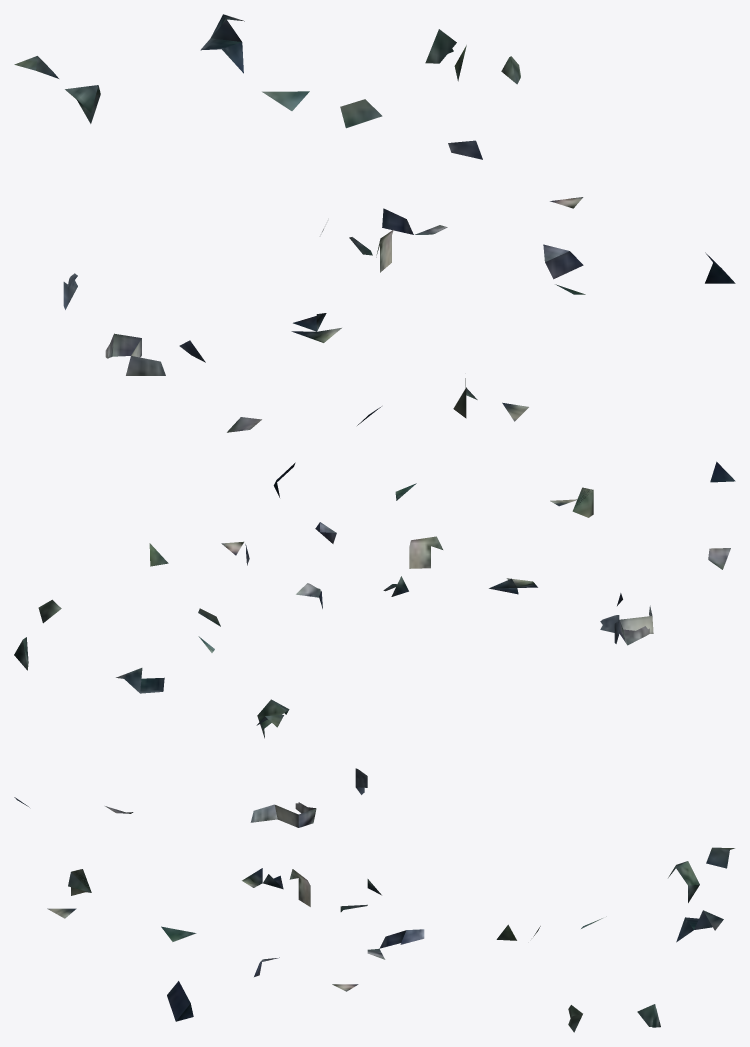
The picture shows the model from 3 angles, top to bottom: view 1: azimuth 30°, elevation 25°; view 2: azimuth 150°, elevation 25°; view 3: azimuth 270°, elevation 25°; orthographic projection. The views are drawn at different scales.
Visible parts, largest first — view 1: 304362727043616365_1; view 2: 304362727043616365_1; view 3: 304362727043616365_1.
Boxes of the visible parts, x1,y1,x2,y2 form: 304362727043616365_1: [14, 14, 735, 432]; 304362727043616365_1: [14, 461, 735, 738]; 304362727043616365_1: [14, 768, 734, 1032].
Size of the model in its own units: 109 by 18.5 by 149.
Materials: 1 (1 with a texture image).
